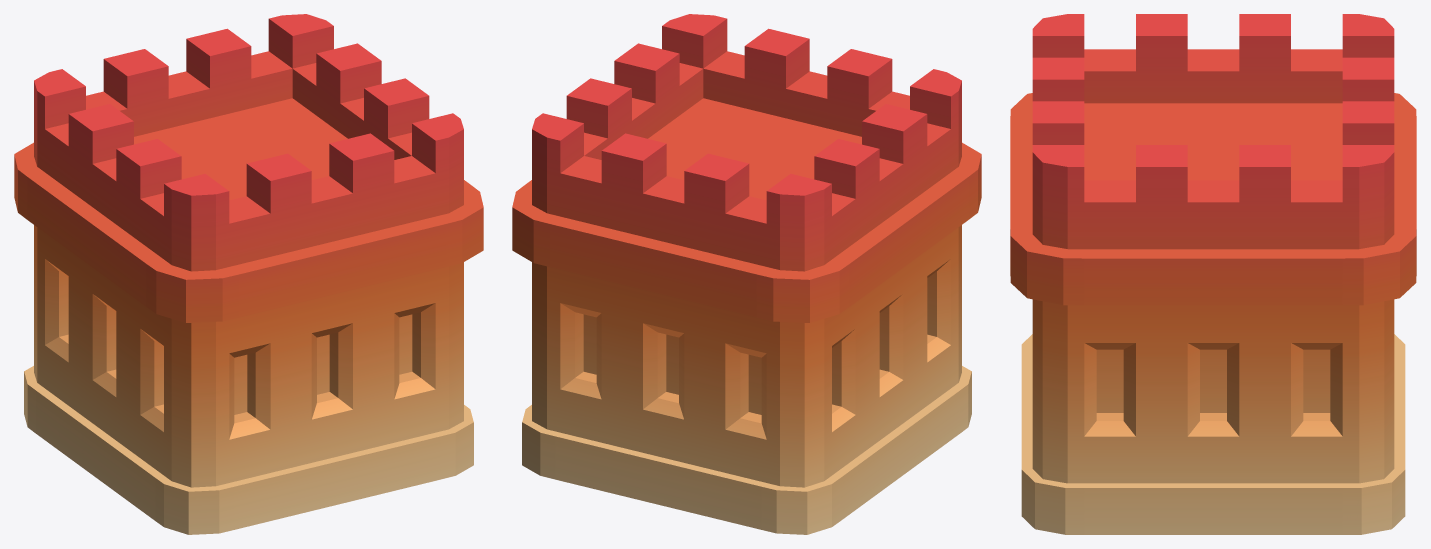
The model's file is sFortTop.001.fbx.
3 renders of one model, left to right at view 1: azimuth 30°, elevation 25°; view 2: azimuth 150°, elevation 25°; view 3: azimuth 270°, elevation 25°, orthographic. The views are drawn at different scales.
Visible parts, largest first — view 1: sFortTop.001; view 2: sFortTop.001; view 3: sFortTop.001.
Part boxes in pixels (x1=…): sFortTop.001: x1=14, y1=14, x2=483, y2=534; sFortTop.001: x1=512, y1=14, x2=981, y2=534; sFortTop.001: x1=1010, y1=14, x2=1416, y2=534.
Size of the model in its own units: 112 by 111 by 112.
